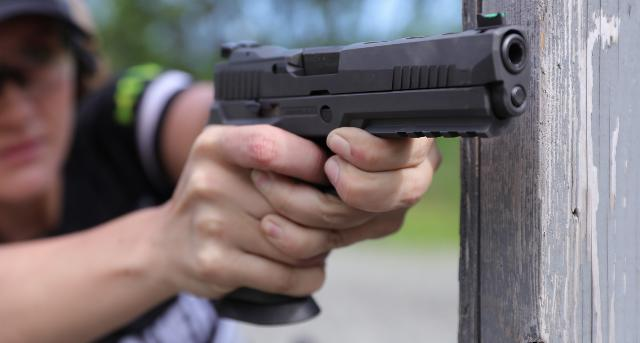handgun: (201, 8, 537, 330)
